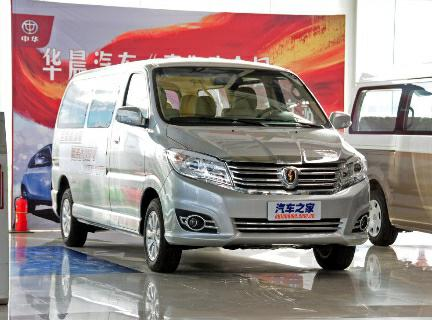金杯-阁瑞斯: (52, 60, 375, 278)
